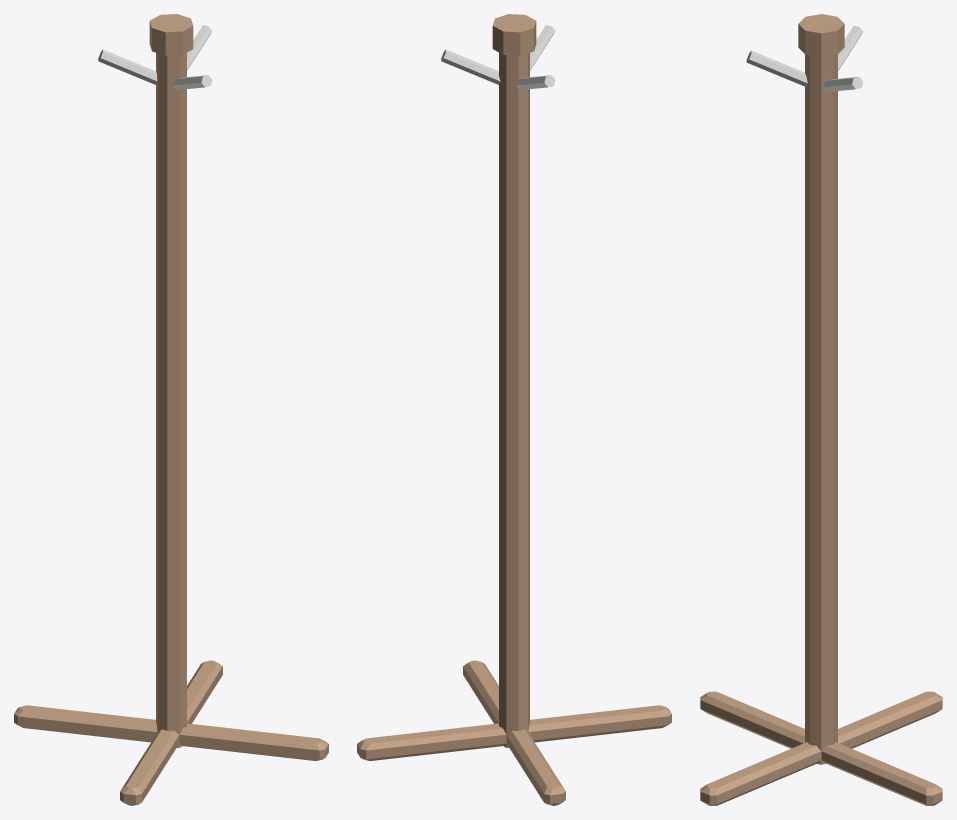
Rendered from lab_coat_stand.glb.
The picture shows the model from 3 angles, left to right: view 1: azimuth 30°, elevation 25°; view 2: azimuth 150°, elevation 25°; view 3: azimuth 270°, elevation 25°; orthographic projection. The views are drawn at different scales.
Visible parts, largest first — view 1: lab_coat_stand; view 2: lab_coat_stand; view 3: lab_coat_stand.
Boxes of the visible parts, <box> form: lab_coat_stand: <box>14,14,328,805</box>; lab_coat_stand: <box>357,14,671,805</box>; lab_coat_stand: <box>700,14,942,805</box>.
Bounding box in the file's own units: 0.7354 × 2.46 × 0.7354.
